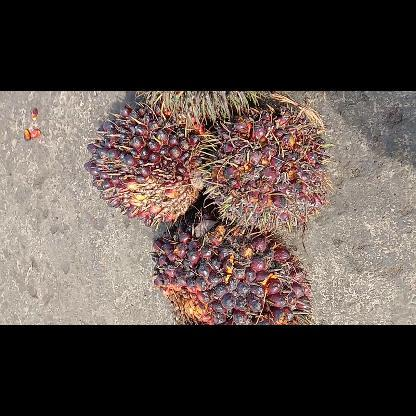Kurang masak: (196, 100, 326, 226), (85, 105, 210, 228)
TBS masak: (154, 222, 310, 324)
